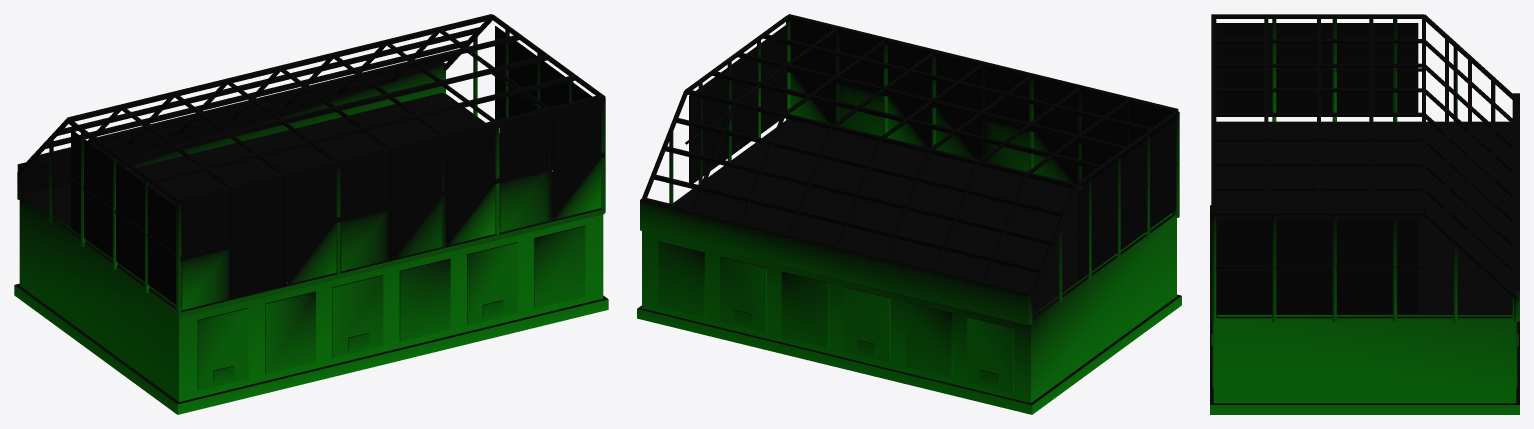
File: lobby.glb
3 views of the same model, side by side, from view 1: azimuth 30°, elevation 25°; view 2: azimuth 150°, elevation 25°; view 3: azimuth 270°, elevation 25° (orthographic). The views are drawn at different scales.
Visible parts, largest first — view 1: lod0; view 2: lod0; view 3: lod0.
Part boxes in pixels (x1,y1,x2,y2): lod0: (14,14,608,414); lod0: (637,14,1181,414); lod0: (1210,14,1519,414).
Size of what is drawn, in the model's own units: 25.6 by 12.14 by 16.8.
